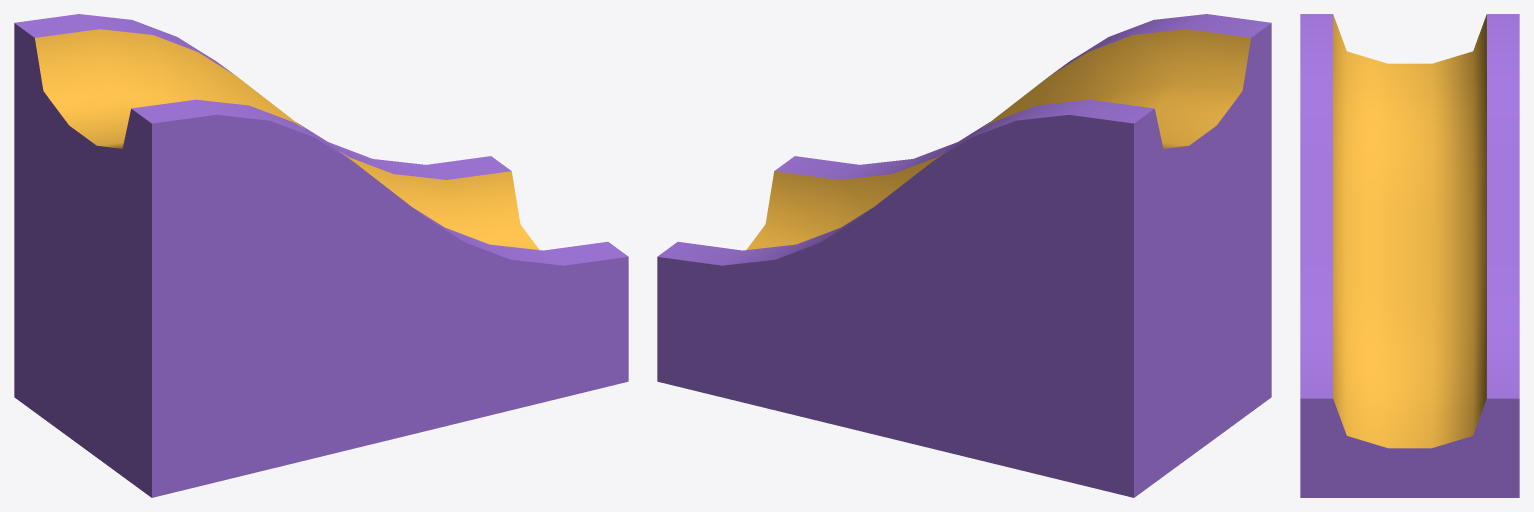
Rendered from ramp-long-solid-c-col.glb.
The picture shows the model from 3 angles, left to right: view 1: azimuth 30°, elevation 25°; view 2: azimuth 150°, elevation 25°; view 3: azimuth 270°, elevation 25°; orthographic projection. The views are drawn at different scales.
Parts seen in each view (by area): view 1: ramp-long-solid-c-col; view 2: ramp-long-solid-c-col; view 3: ramp-long-solid-c-col.
Boxes of the visible parts, box(x1,y1,x2,y2) form: ramp-long-solid-c-col: box(14, 14, 628, 497); ramp-long-solid-c-col: box(657, 14, 1271, 497); ramp-long-solid-c-col: box(1300, 14, 1519, 497).
Bounding box in the file's own units: 2 × 1.5 × 1.
Materials: 1 (1 with a texture image).
